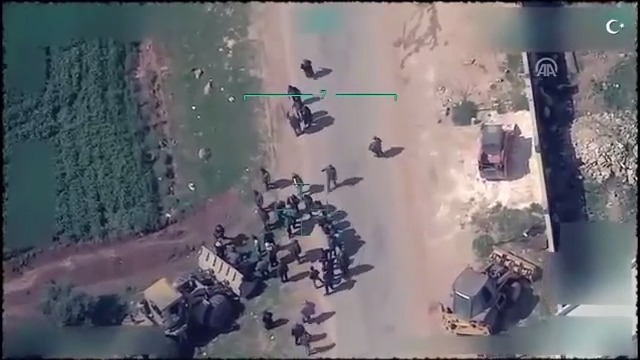arac: (436, 250, 536, 338), (469, 112, 528, 178)
insan: (320, 161, 344, 192), (297, 294, 318, 326), (273, 257, 294, 284), (257, 163, 277, 190), (307, 261, 325, 290), (368, 135, 387, 160), (261, 309, 278, 333), (301, 55, 318, 78)
